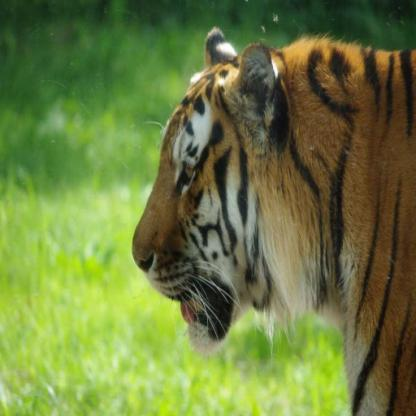Tiger: (115, 20, 415, 415)
